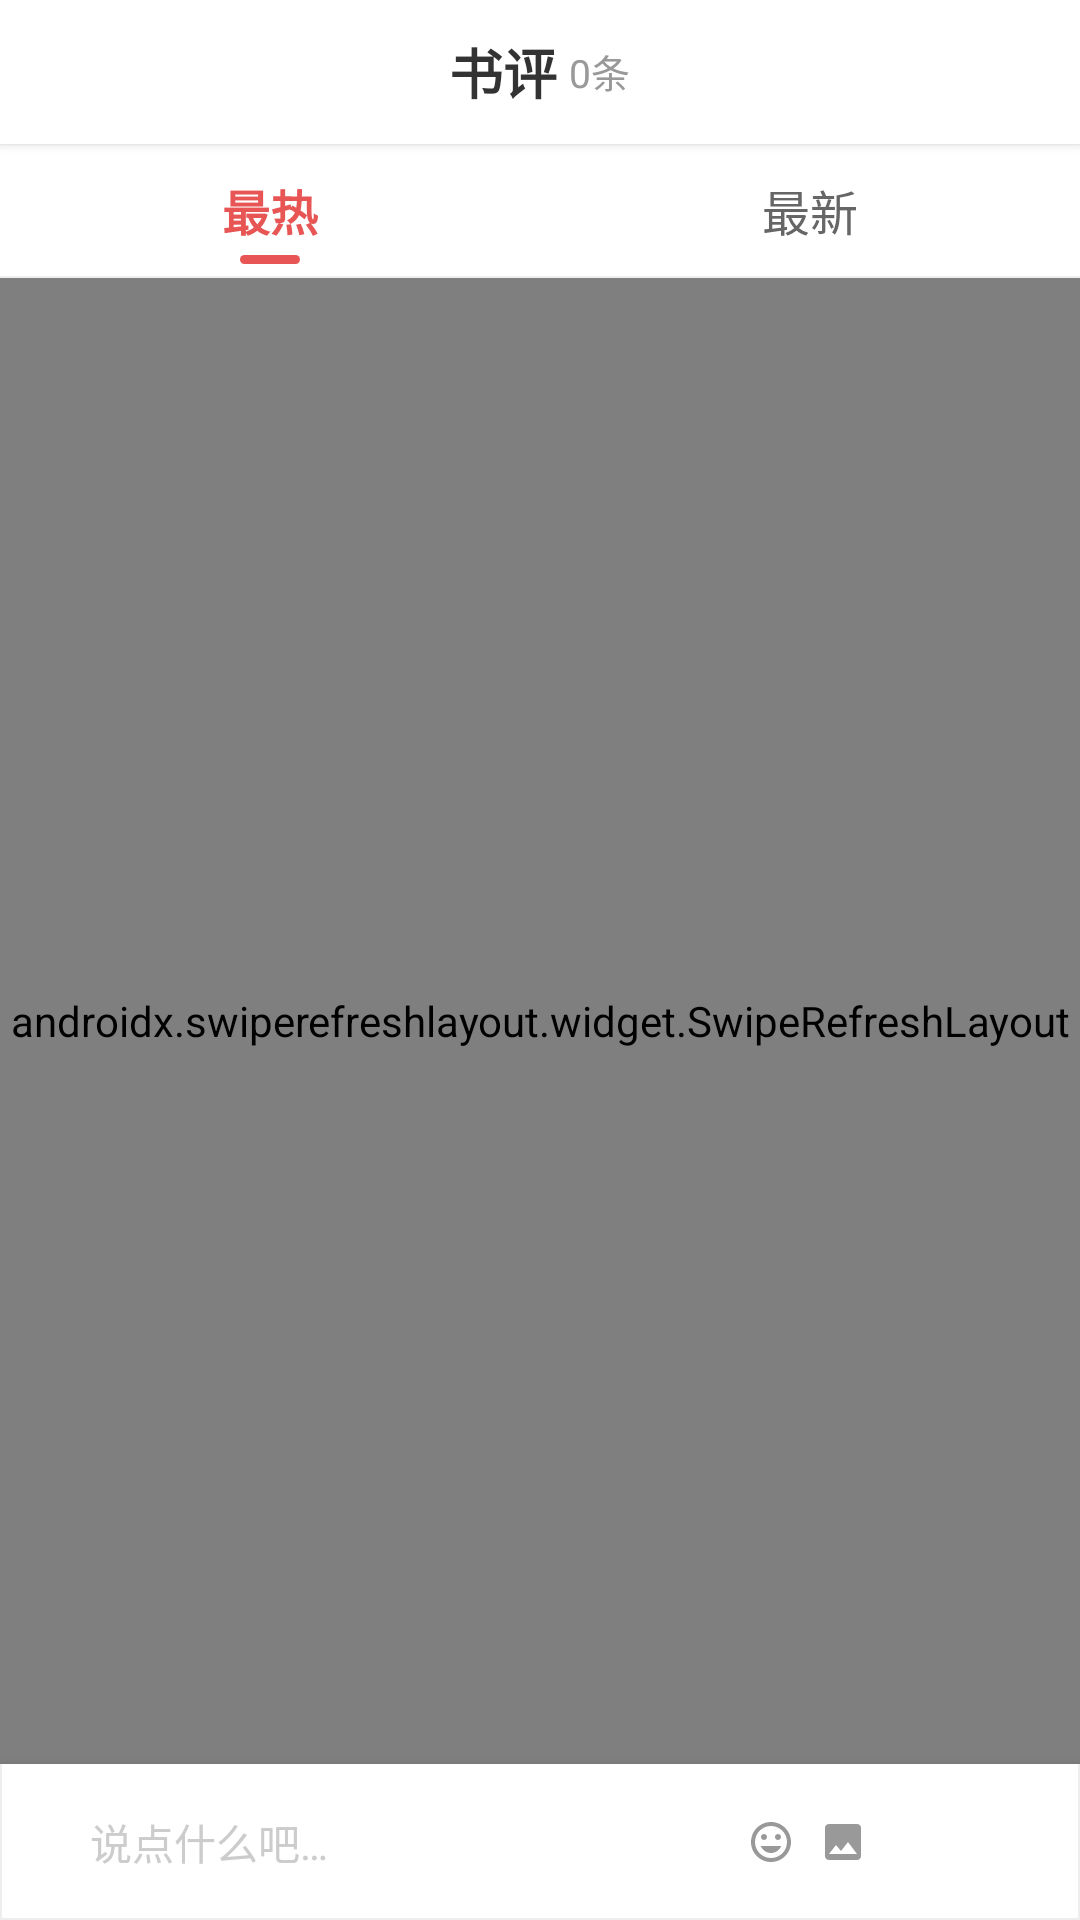

Icon bounding boxes for this 1080*1920 phone screenshot, format (x1, y1, x2, y2):
emoji: (751, 1822, 791, 1862)
